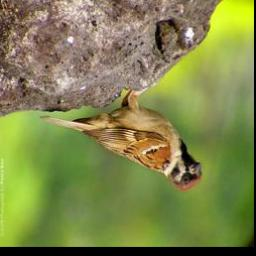Sparrow: (37, 84, 209, 196)
